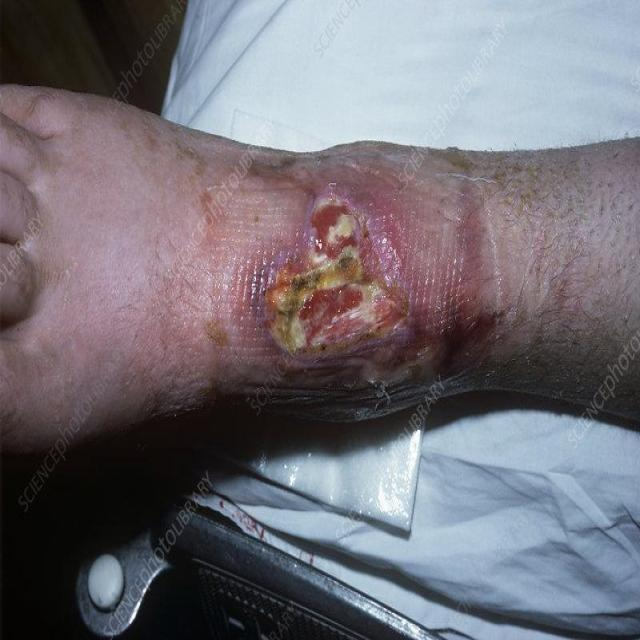stage-4: (265, 200, 408, 355)
